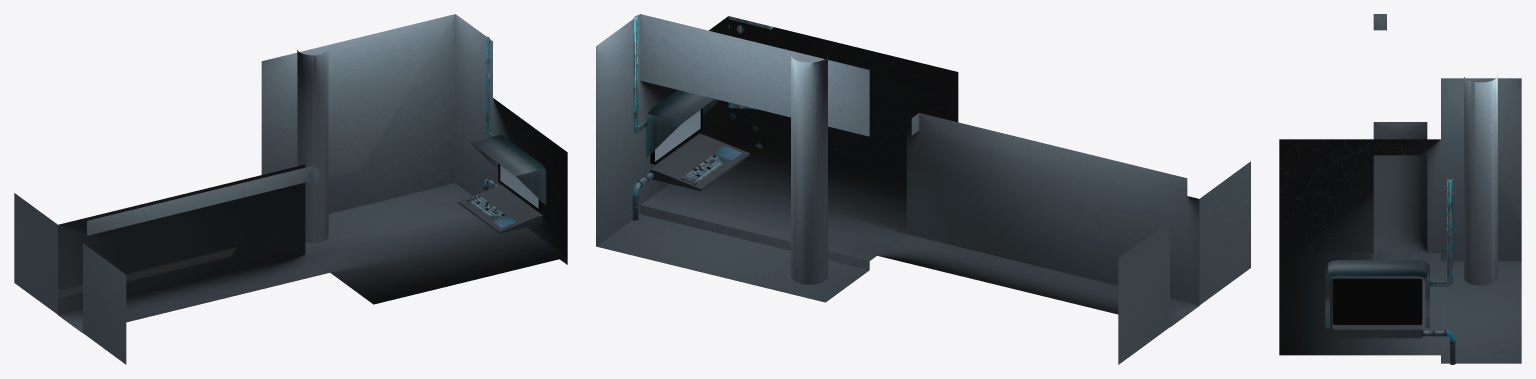
Rendered from TOSKU_Contact.glb.
The picture shows the model from 3 angles, left to right: view 1: azimuth 30°, elevation 25°; view 2: azimuth 150°, elevation 25°; view 3: azimuth 270°, elevation 25°; orthographic projection. The views are drawn at different scales.
Parts seen in each view (by area): view 1: Building.Contact, Column 3, Computer Hood, Keyboard Panel, Contact Us Computer Screen 2; view 2: Building.Contact, Column 3, Keyboard Panel, Computer Hood, Contact Us Computer Screen 2, Contact Us Computer Wires; view 3: Building.Contact, Column 3, Contact Us Computer Screen 2, Computer Hood, Keyboard Panel, Contact Us Computer Wires, Keyboard Wire.
Boxes of the visible parts, x1=… form: Building.Contact: x1=14, y1=14, x2=567, y2=364; Column 3: x1=297, y1=50, x2=328, y2=242; Computer Hood: x1=470, y1=135, x2=546, y2=204; Keyboard Panel: x1=458, y1=185, x2=542, y2=233; Contact Us Computer Screen 2: x1=498, y1=164, x2=542, y2=211; Building.Contact: x1=596, y1=14, x2=1250, y2=364; Column 3: x1=791, y1=56, x2=827, y2=284; Keyboard Panel: x1=650, y1=134, x2=749, y2=191; Computer Hood: x1=646, y1=90, x2=718, y2=156; Contact Us Computer Screen 2: x1=650, y1=108, x2=702, y2=164; Contact Us Computer Wires: x1=633, y1=15, x2=647, y2=133; Building.Contact: x1=1279, y1=14, x2=1521, y2=363; Column 3: x1=1464, y1=75, x2=1497, y2=285; Contact Us Computer Screen 2: x1=1333, y1=278, x2=1422, y2=324; Computer Hood: x1=1325, y1=260, x2=1429, y2=328; Keyboard Panel: x1=1332, y1=314, x2=1422, y2=338; Contact Us Computer Wires: x1=1429, y1=179, x2=1452, y2=286; Keyboard Wire: x1=1423, y1=331, x2=1455, y2=364.
Size of the model in its own units: 20.64 by 8.48 by 9.
7 materials, 6 textured.
